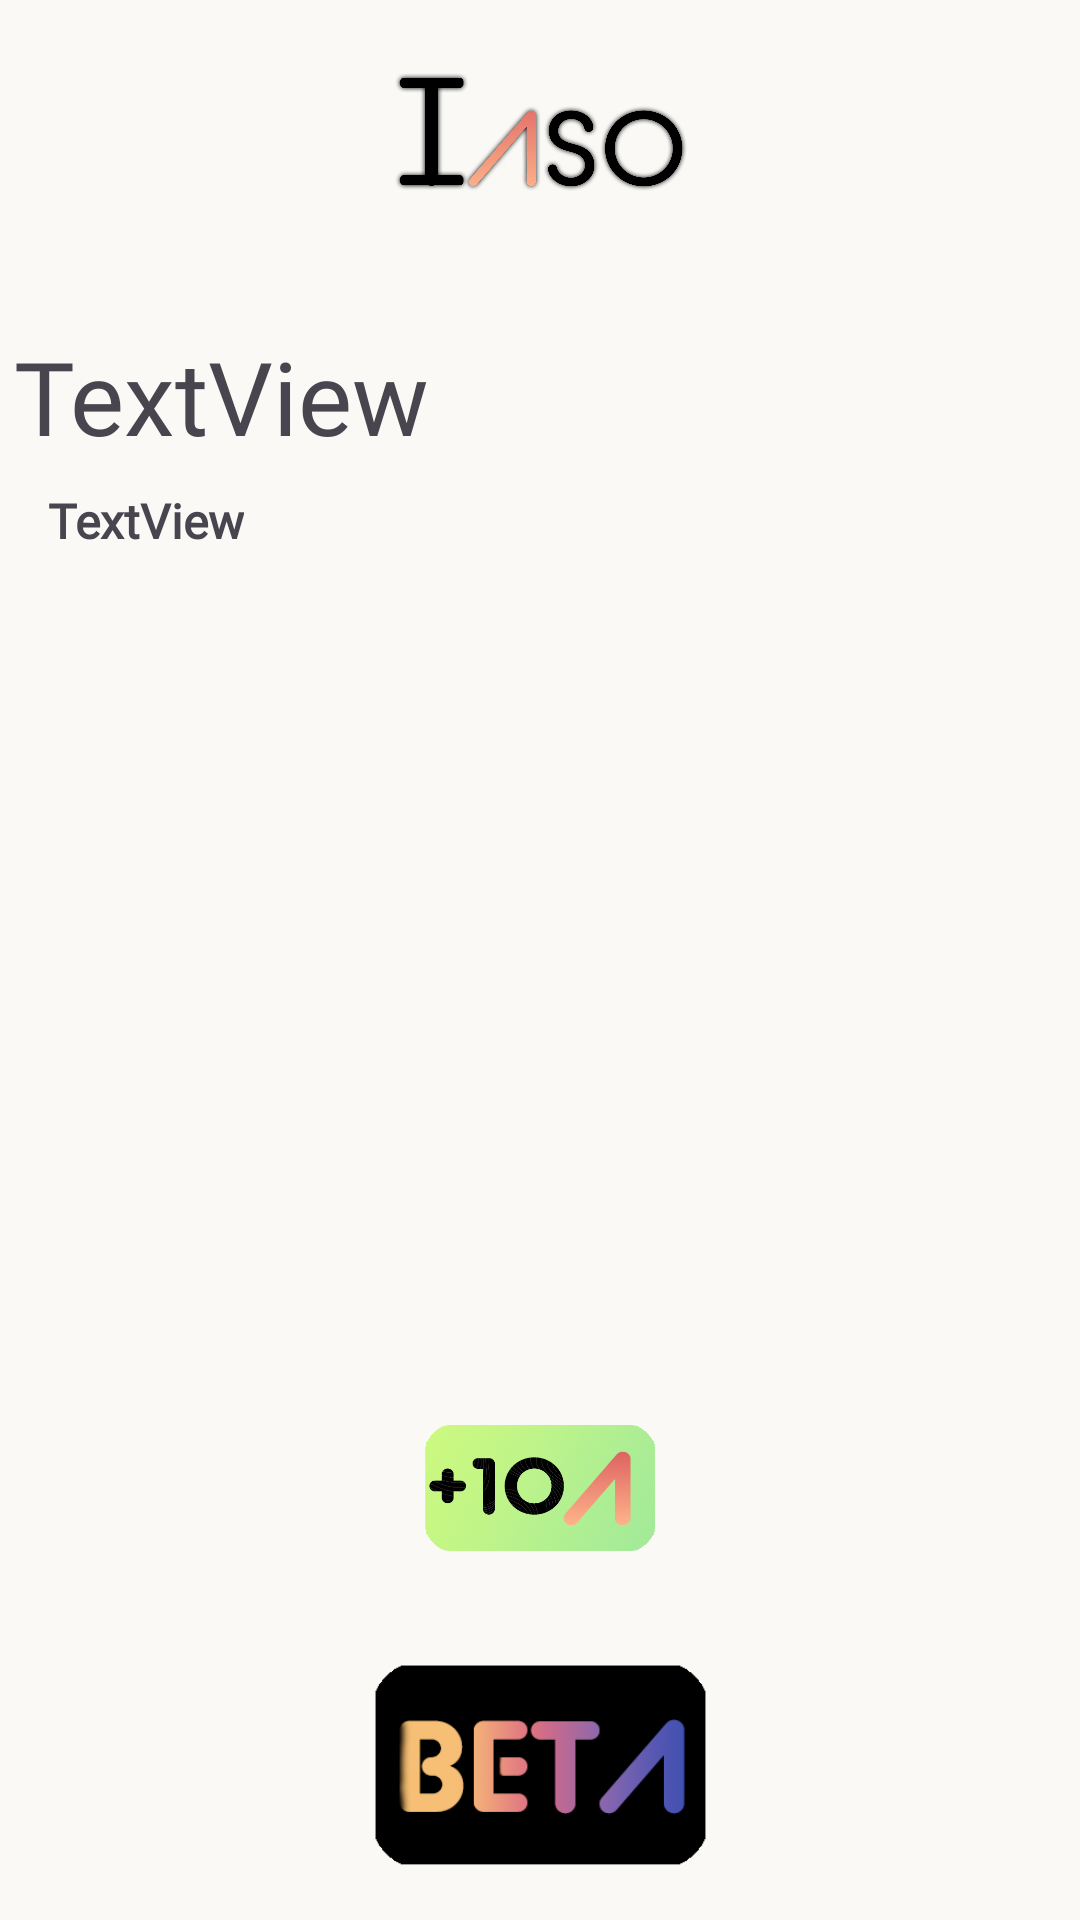

Icons on this 1080 × 1920 Android screen, each with its box as bbox=[x1, y1, x2, y2]:
pointsfortodolist: bbox=[425, 1425, 655, 1551]
